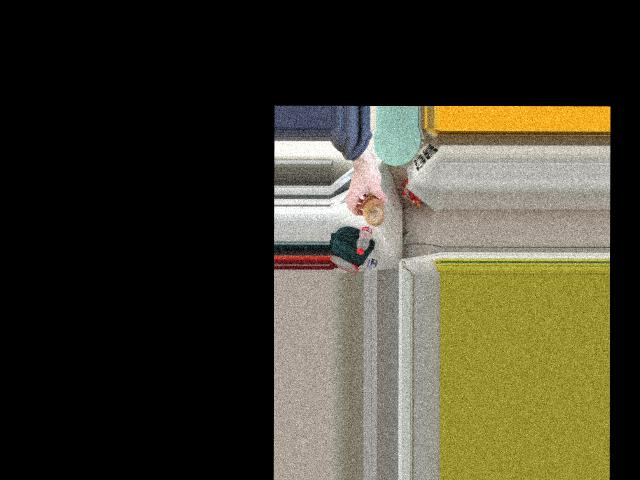sweet_potato: (360, 190, 388, 228)
